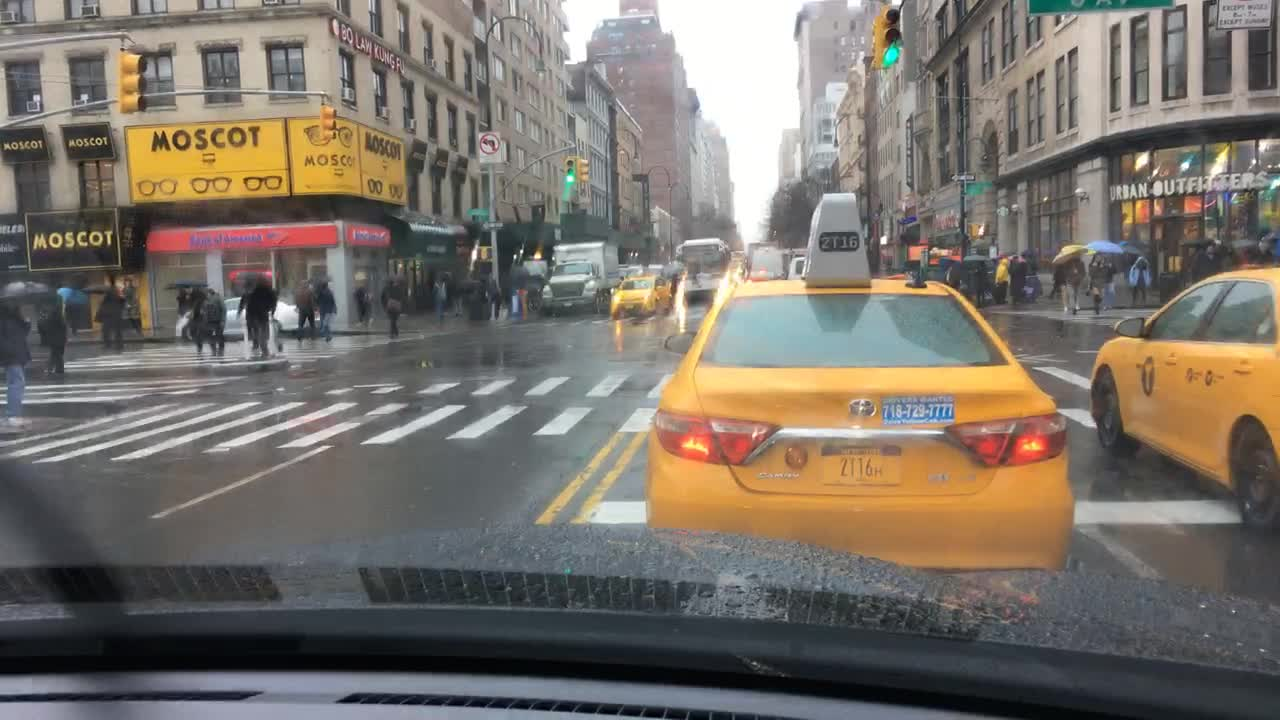bus: (674, 234, 728, 300)
car: (645, 190, 1070, 576), (1088, 269, 1278, 529), (176, 295, 319, 339), (608, 273, 675, 319), (748, 244, 786, 282), (726, 252, 748, 288), (786, 256, 814, 280)
person: (0, 302, 32, 427), (36, 299, 72, 377), (94, 275, 130, 350), (245, 282, 278, 361), (235, 278, 257, 353), (203, 292, 228, 357), (312, 280, 337, 343), (378, 284, 405, 341), (1192, 245, 1227, 287), (507, 255, 530, 318), (292, 280, 316, 339), (1128, 257, 1151, 306), (351, 286, 376, 329), (429, 279, 450, 329), (189, 295, 205, 354), (1053, 263, 1070, 317), (1011, 255, 1029, 304), (1101, 255, 1116, 310), (994, 257, 1010, 306), (448, 280, 467, 321), (974, 259, 990, 307), (1232, 244, 1255, 267), (941, 261, 959, 288), (187, 288, 205, 314), (1256, 244, 1275, 267), (173, 287, 188, 315)
traffic light: (873, 10, 901, 72), (121, 50, 145, 116), (321, 105, 336, 140), (577, 154, 592, 185), (564, 159, 578, 186)
traffic sign: (1027, 0, 1178, 16), (1215, 0, 1274, 30), (479, 132, 500, 164), (964, 179, 991, 195), (465, 207, 490, 218), (951, 171, 976, 182), (483, 221, 503, 230)
truck: (539, 241, 620, 313)
